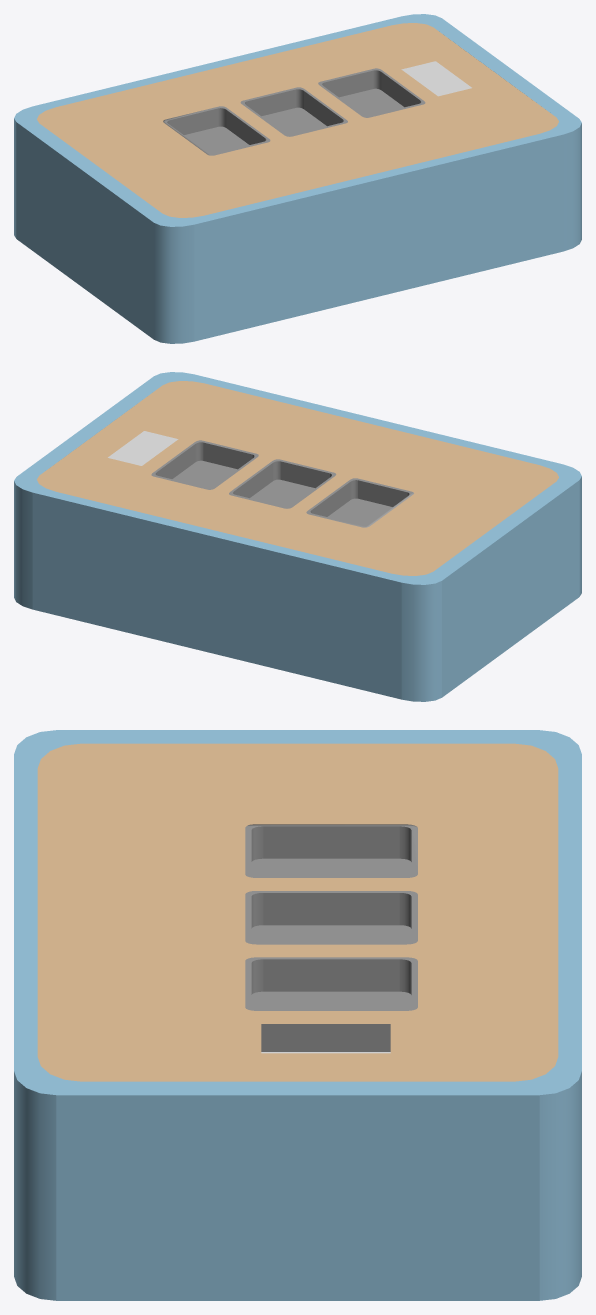
File: BaseDesk2.fbx
3 views of the same model, one above another, from view 1: azimuth 30°, elevation 25°; view 2: azimuth 150°, elevation 25°; view 3: azimuth 270°, elevation 25° (orthographic). The views are drawn at different scales.
Parts seen in each view (by area): view 1: Cube.001, Cube.024, Cube.002, Cube.003, Cube.004; view 2: Cube.001, Cube.024, Cube.002, Cube.003, Cube.004; view 3: Cube.001, Cube.024, Cube.002, Cube.004, Cube.003.
Part boxes in pixels (x1,y1,x2,y2): Cube.001: [14, 14, 581, 343]; Cube.024: [37, 23, 558, 217]; Cube.002: [318, 68, 425, 117]; Cube.003: [240, 87, 347, 136]; Cube.004: [163, 106, 270, 155]; Cube.001: [14, 372, 581, 701]; Cube.024: [37, 381, 558, 575]; Cube.002: [151, 440, 258, 489]; Cube.003: [229, 459, 336, 508]; Cube.004: [306, 478, 413, 527]; Cube.001: [14, 730, 581, 1300]; Cube.024: [37, 743, 558, 1081]; Cube.002: [245, 957, 417, 1051]; Cube.004: [245, 824, 417, 877]; Cube.003: [245, 891, 417, 944].
Bounding box in the file's own units: 1115 × 293 × 733.
